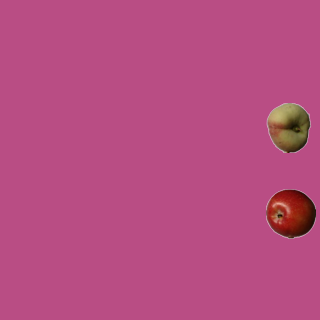Apple Braeburn: (265, 188, 315, 238)
Peach Flat: (263, 102, 313, 152)
